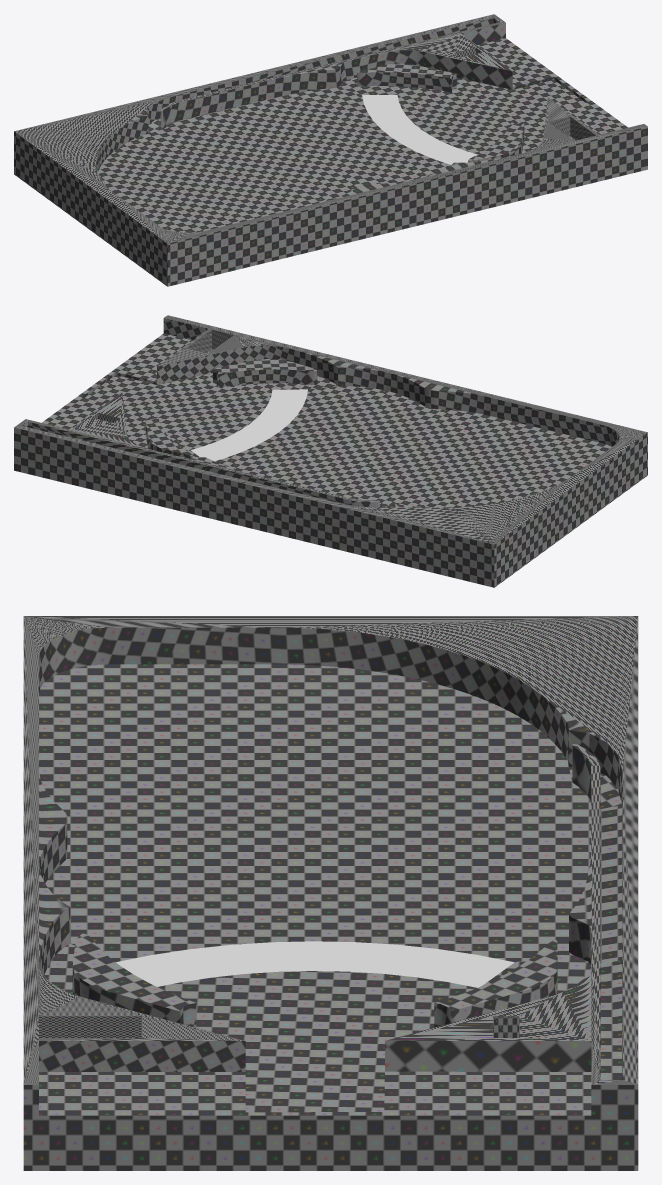
File: pinball_world_1.gltf
3 renders of one model, top to bottom at view 1: azimuth 30°, elevation 25°; view 2: azimuth 150°, elevation 25°; view 3: azimuth 270°, elevation 25°, orthographic. The views are drawn at different scales.
Visible parts, largest first — view 1: Pinball Plate ---, Pinball Menu Glass; view 2: Pinball Plate ---, Pinball Menu Glass; view 3: Pinball Plate ---, Pinball Menu Glass.
Boxes of the visible parts, x1,y1,x2,y2 form: Pinball Plate ---: (14, 14, 647, 286); Pinball Menu Glass: (362, 95, 477, 164); Pinball Plate ---: (14, 315, 647, 587); Pinball Menu Glass: (191, 389, 307, 461); Pinball Plate ---: (23, 616, 638, 1170); Pinball Menu Glass: (116, 941, 514, 987).
Size of what is drawn, in the model's own units: 2.6 by 0.2227 by 1.44.
Materials: 1 (1 with a texture image).
